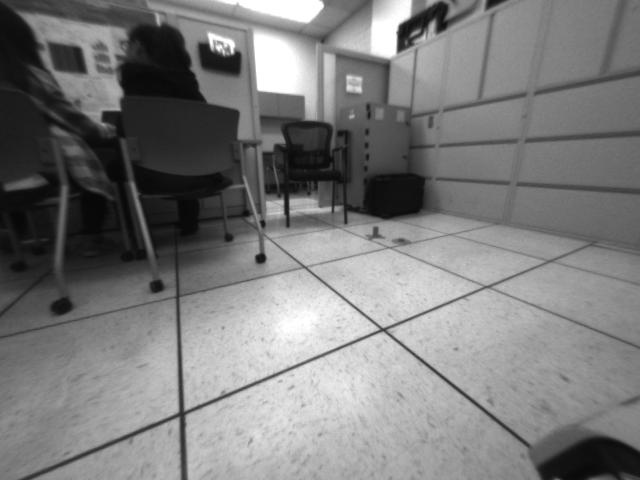X: (365, 225, 387, 241)
